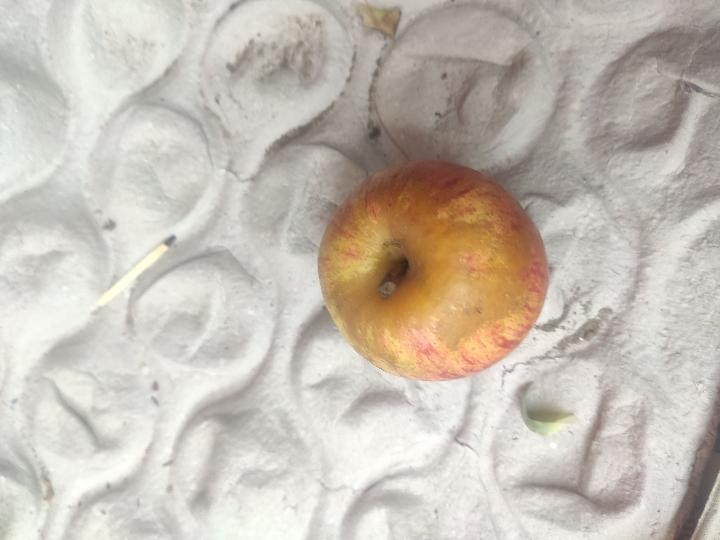apple: (318, 161, 548, 380)
bruise_discoloration: (336, 173, 534, 366)
